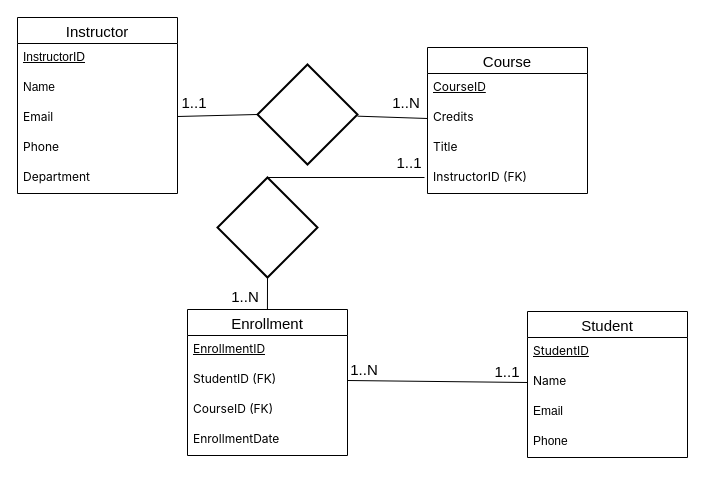
Some shapes in this 705 by 478 pixel diagram are drawn without their labels. The shapes that lost their labels are listed below. From the top down, each one's centre as x and y in pixels, then its label:
(307,114): teaches
(267,227): enrolled in
